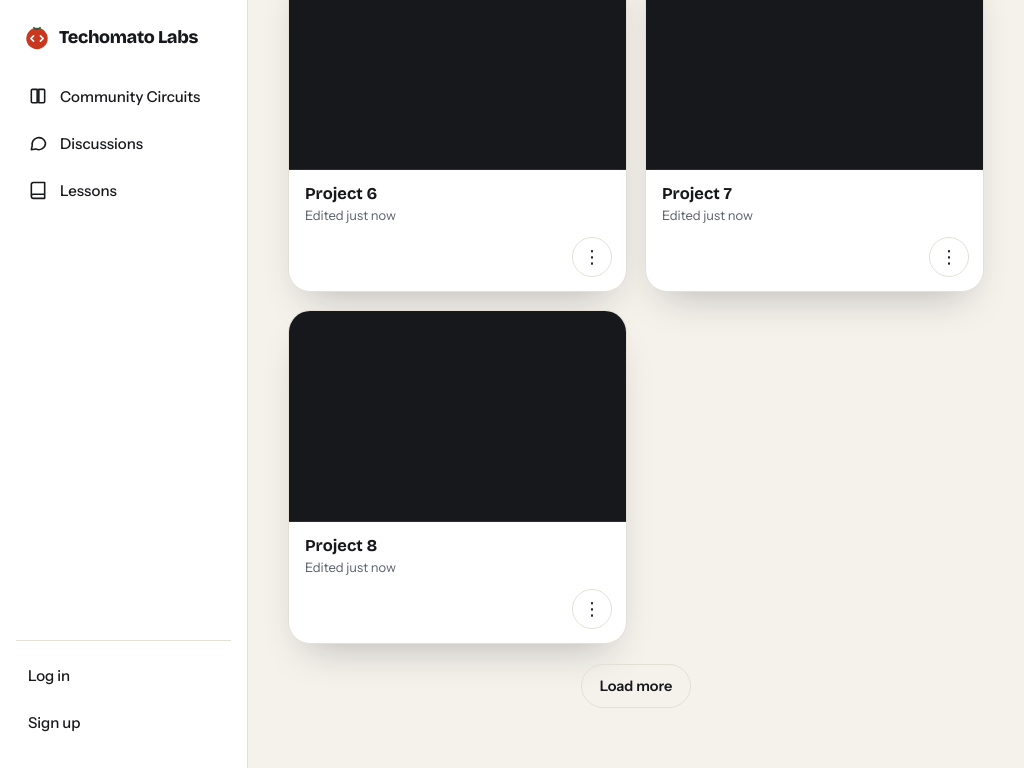
it: ProjectsPage › paginates with a Load more button
This screenshot has width=1024, height=768.
(page scrolled)
Expected: the text "Project 9" is not shown
Click the button "Load more" at (636, 686), box [581,664,691,708]
(page scrolled)
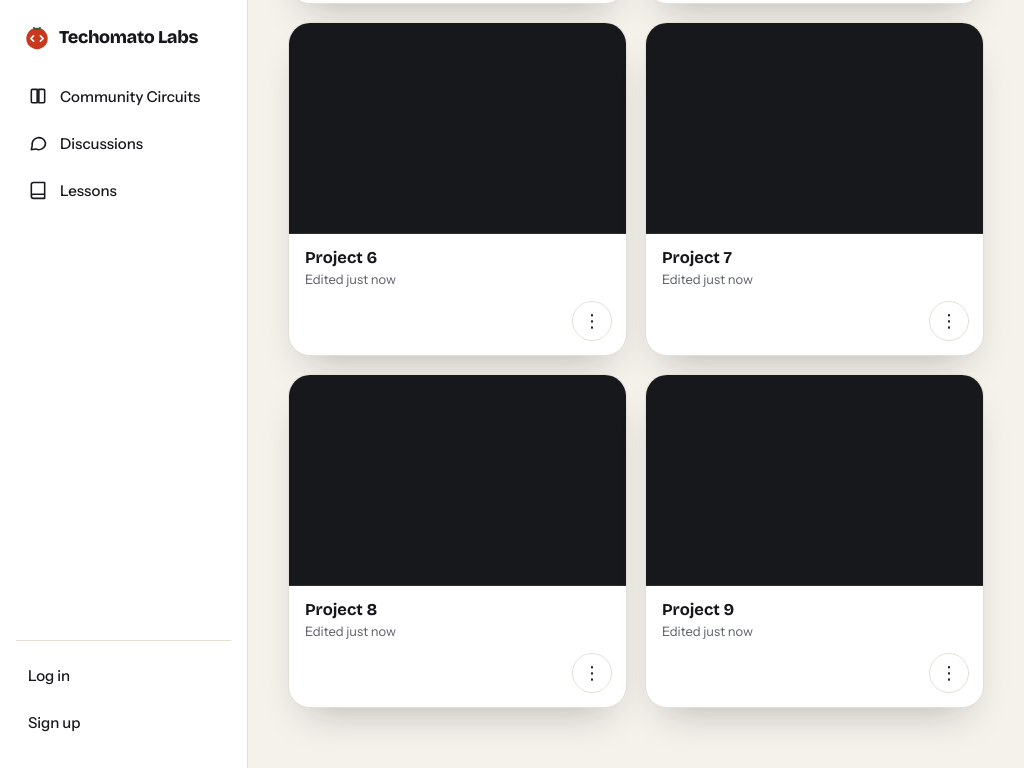
Result: the link "Project 9" is shown at [662,600,734,618]
